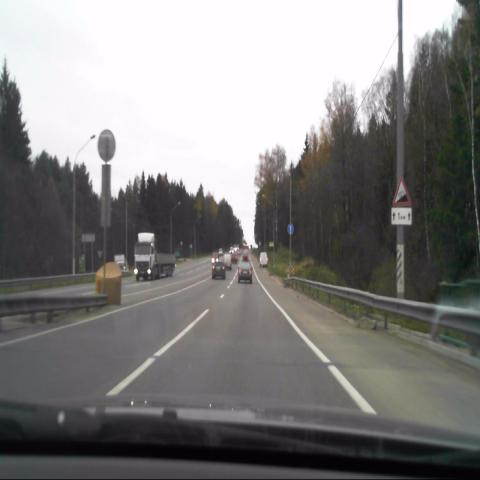1_14: (390, 177, 412, 207)
4_1_1: (287, 222, 294, 234)
